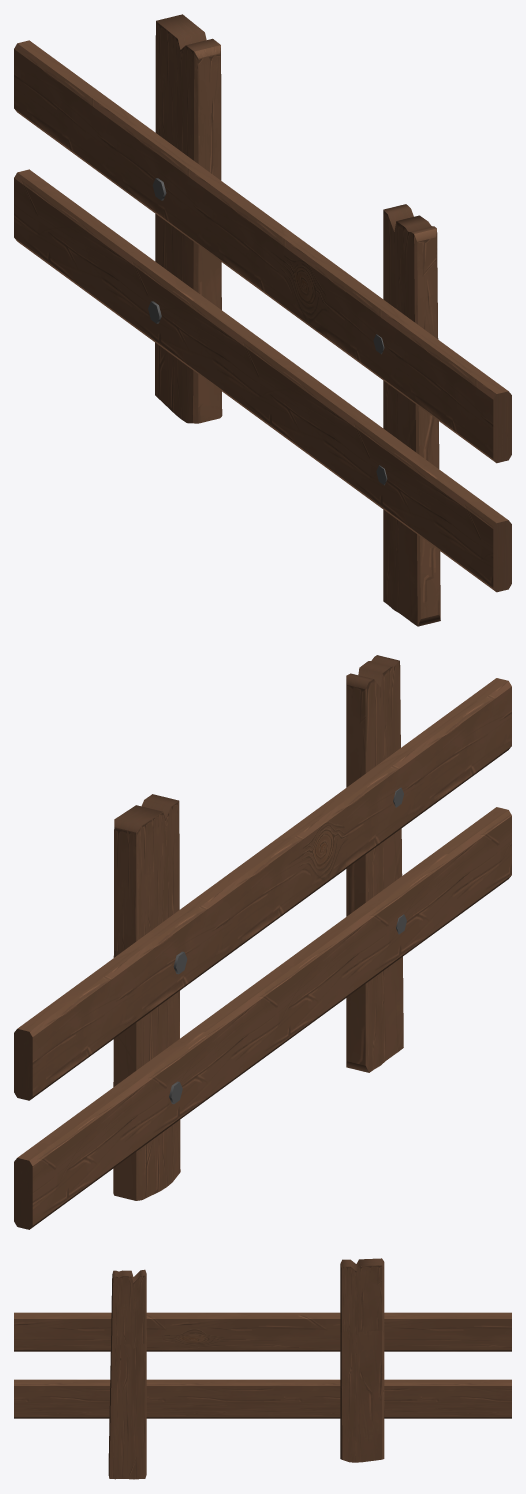
File: Low Fence.FBX
3 renders of one model, top to bottom at view 1: azimuth 30°, elevation 25°; view 2: azimuth 150°, elevation 25°; view 3: azimuth 270°, elevation 25°, orthographic. The views are drawn at different scales.
Visible parts, largest first — view 1: Box063; view 2: Box063; view 3: Box063.
Boxes of the visible parts, left/top/right/bottom form: Box063: left=14, top=14, right=511, bottom=626; Box063: left=14, top=655, right=511, bottom=1229; Box063: left=14, top=1258, right=511, bottom=1479.
Bounding box in the file's own units: 1.73 × 14.55 × 30.5.
